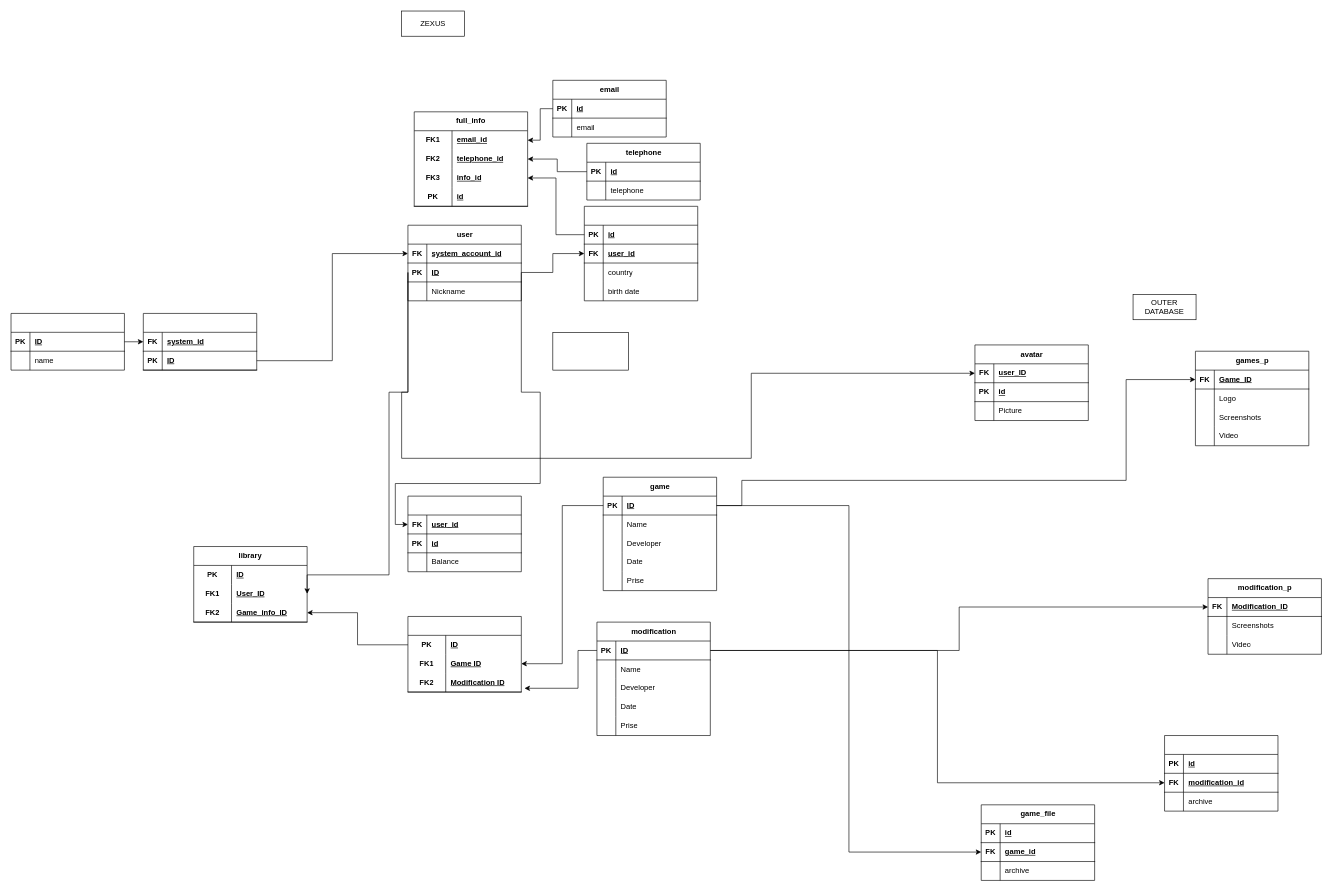
Some shapes in this 1332 by 891 pixel diagram are drawn without their labels. Here are the shapes that lost their labels. From the top down, the box of each, then its label:
(584, 206, 698, 301): info
(10, 313, 124, 370): system
(143, 313, 257, 370): system_account
(407, 495, 521, 572): electronic_wallett
(407, 616, 521, 692): game_info
(1164, 735, 1278, 811): modification_file
